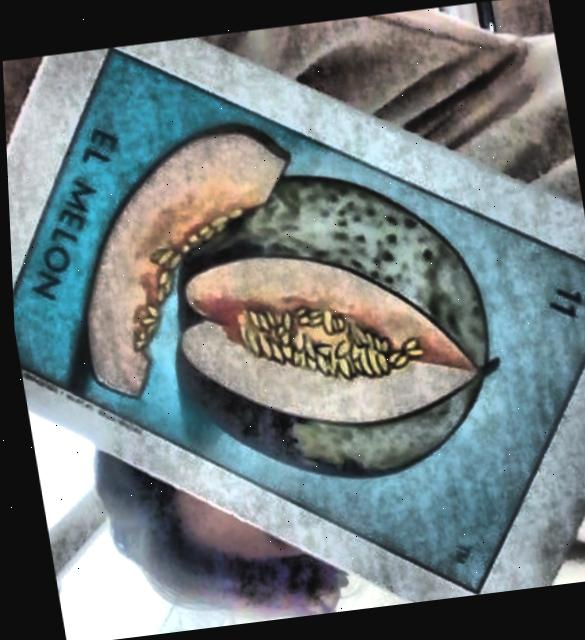El Melon: (10, 50, 585, 591)
